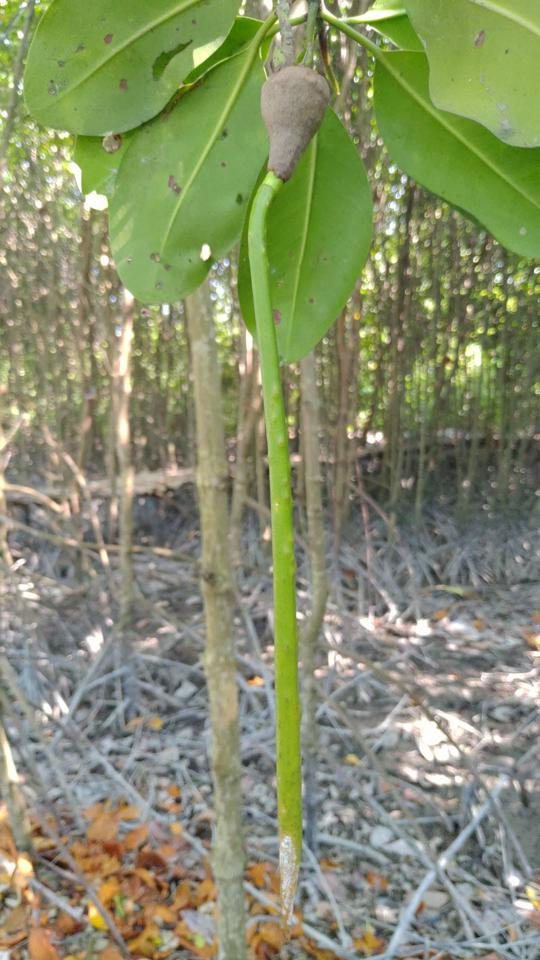setengah matang: (242, 32, 343, 934)
